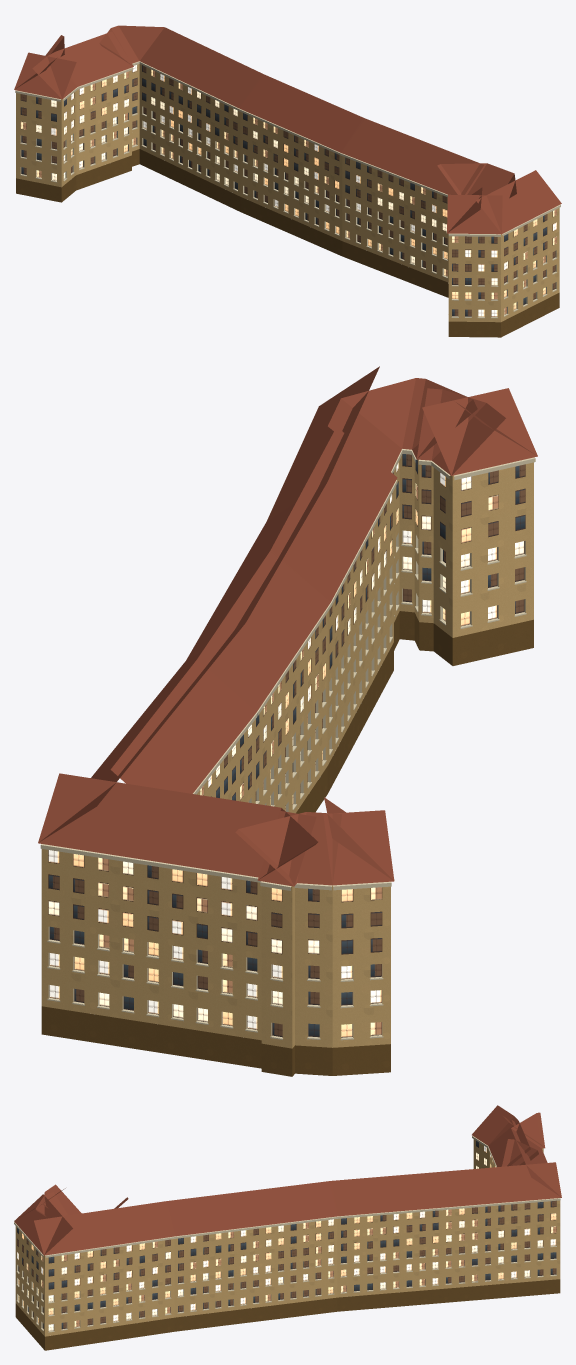
Rendered from roentgen_zeile.glb.
The picture shows the model from 3 angles, top to bottom: view 1: azimuth 30°, elevation 25°; view 2: azimuth 150°, elevation 25°; view 3: azimuth 270°, elevation 25°; orthographic projection. The views are drawn at different scales.
Parts seen in each view (by area): view 1: roentgen_zeile; view 2: roentgen_zeile; view 3: roentgen_zeile.
Part boxes in pixels (x1,y1,x2,y2): roentgen_zeile: [14, 25, 561, 337]; roentgen_zeile: [38, 366, 537, 1076]; roentgen_zeile: [14, 1105, 561, 1350].
Size of the model in its own units: 60.37 by 25.18 by 105.
Materials: 3 (3 with a texture image).
